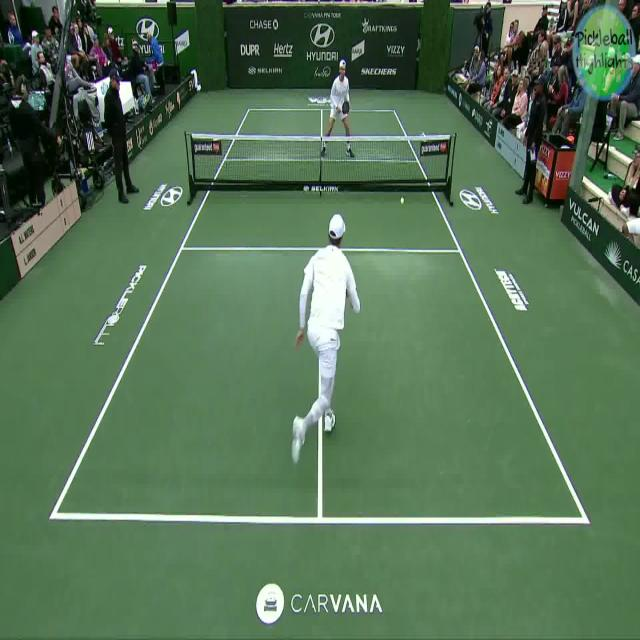Court: (53, 106, 588, 523)
ball: (396, 191, 408, 210)
